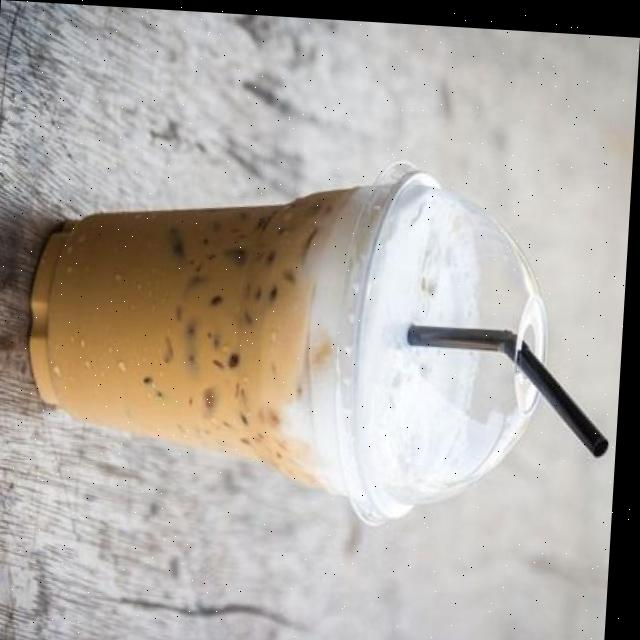cup: (16, 152, 570, 541)
